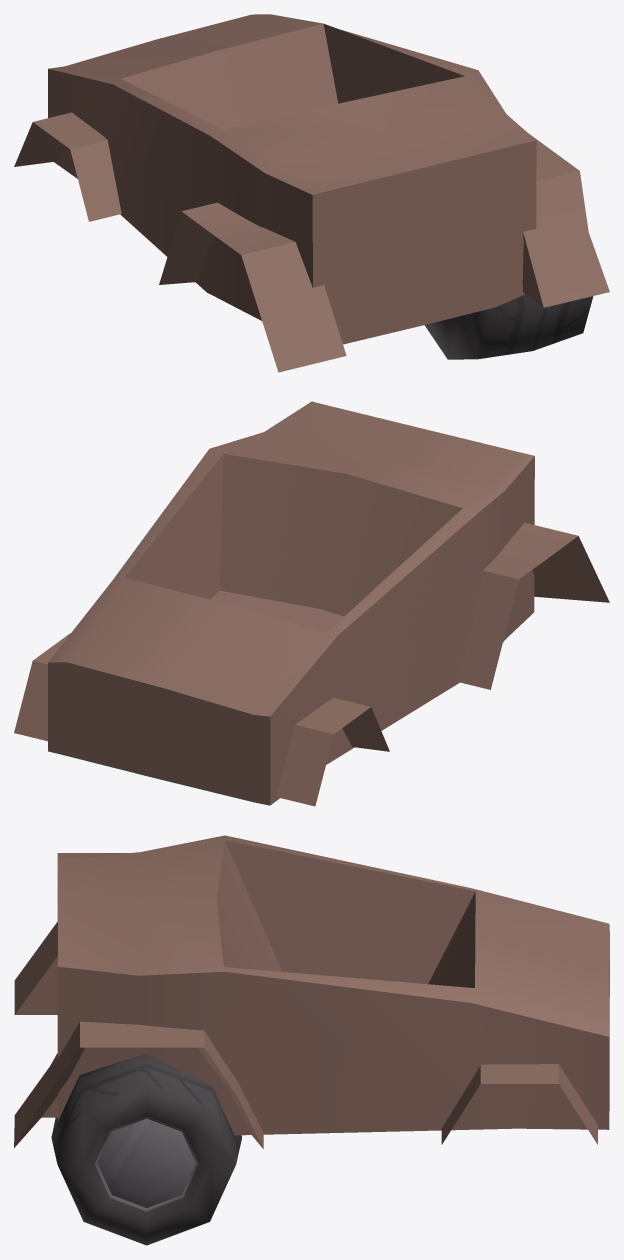
Rendered from kitty-cart.glb.
The picture shows the model from 3 angles, top to bottom: view 1: azimuth 30°, elevation 25°; view 2: azimuth 150°, elevation 25°; view 3: azimuth 270°, elevation 25°; orthographic projection. The views are drawn at different scales.
Visible parts, largest first — view 1: body, tire; view 2: body; view 3: body, tire.
Part boxes in pixels (left/top/right/bottom): body: left=14, top=14, right=609, bottom=372; tire: left=424, top=294, right=593, bottom=359; body: left=14, top=401, right=609, bottom=806; body: left=14, top=835, right=609, bottom=1148; tire: left=51, top=1054, right=241, bottom=1245.
Bounding box in the file's own units: 1 × 0.709 × 1.44.
Materials: 2 (2 with a texture image).
